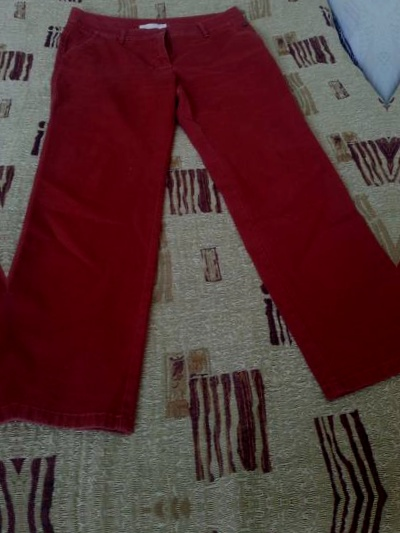Pants: (0, 0, 400, 454), (0, 19, 17, 477), (388, 0, 400, 430)
